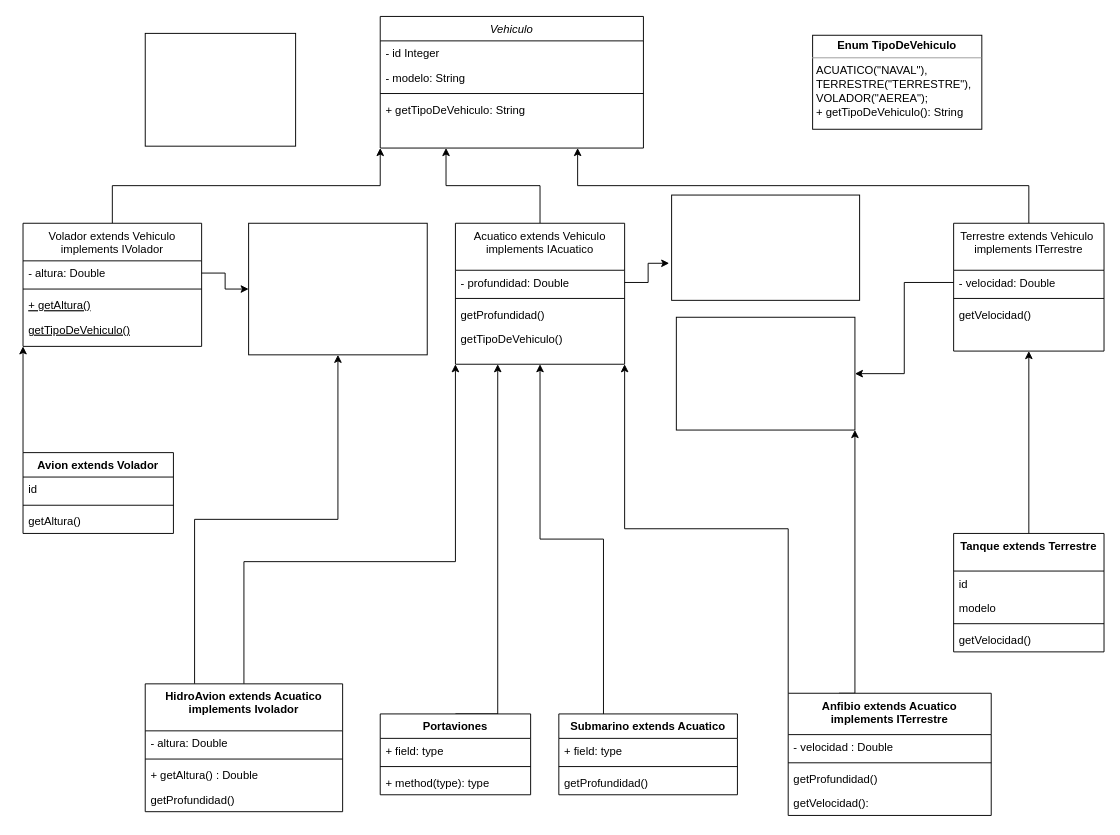
This 1120x835 diagram has some shape labels left out. Each missing label, with the centre of its shape:
<<Interface>> IAcuatico + getProfundidad(): Double: the point at 765,247
<<Interface>> ITerrestre + getVelocidad(): Double: the point at 765,373
<<Interface>> IVolador + public getAltura(): DOuble: the point at 337,288
Enum TipoDeBatalla TERRESTRE, NAVAL, AEREA: the point at 220,89
